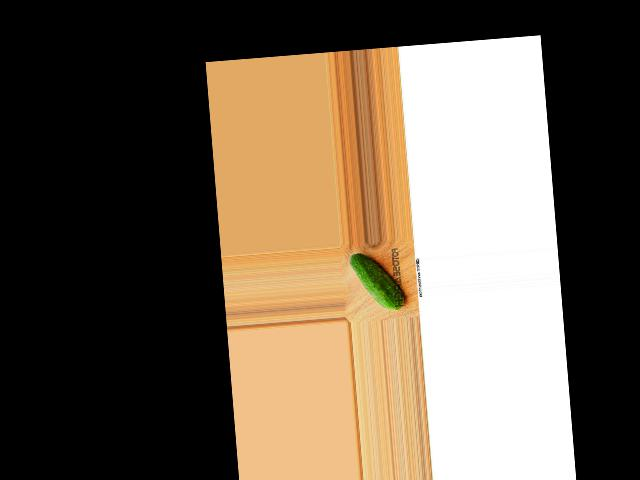cucumber: (349, 250, 405, 314)
